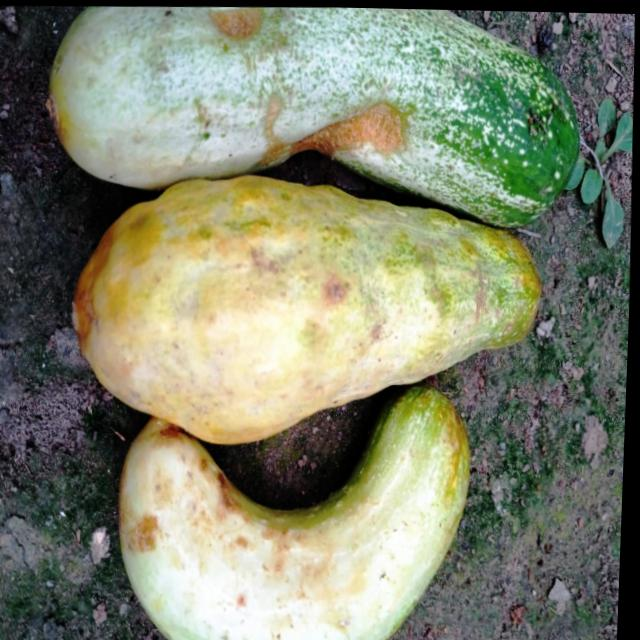Belly-Rot: (250, 78, 414, 175), (201, 452, 251, 518), (204, 6, 274, 45), (121, 506, 168, 557), (324, 271, 358, 307), (474, 268, 494, 329)
